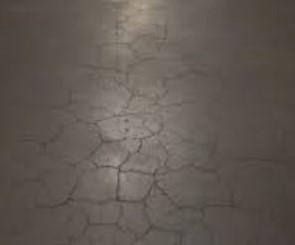alligator-crack: (44, 21, 246, 242)
